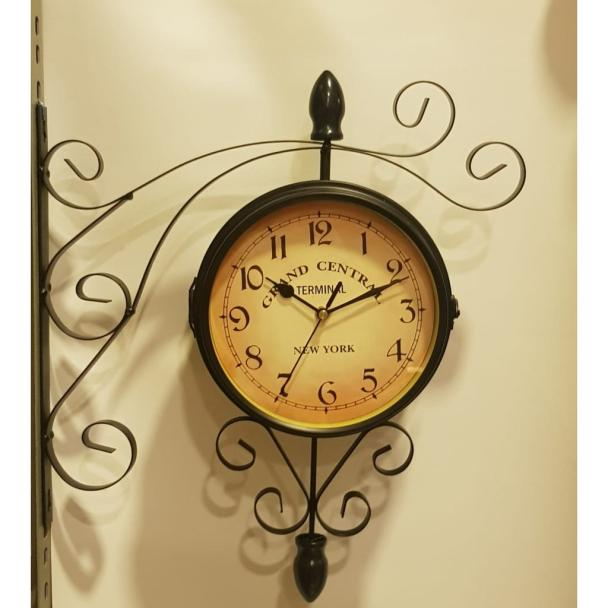Jam: (193, 175, 460, 432)
